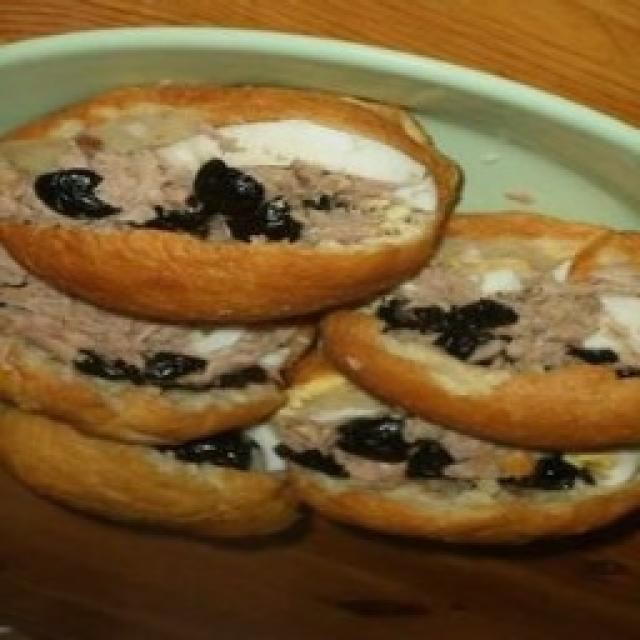Frecasse: (0, 88, 640, 542)
